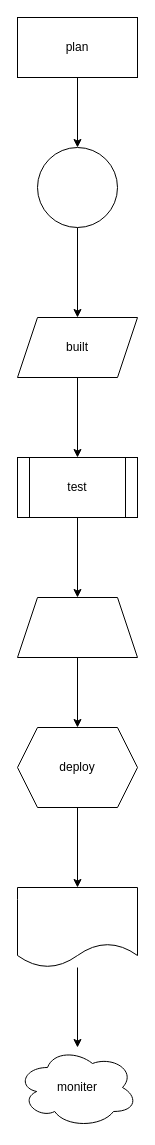
The diagram is 155 pixels wide and 1145 high, and some of its shapes have lost their labels. The shapes that lost their labels are listed below. From the top down, each one's centre as x and y in pixels, then its label:
the point at 77,187: code
the point at 77,627: release
the point at 77,927: operate
